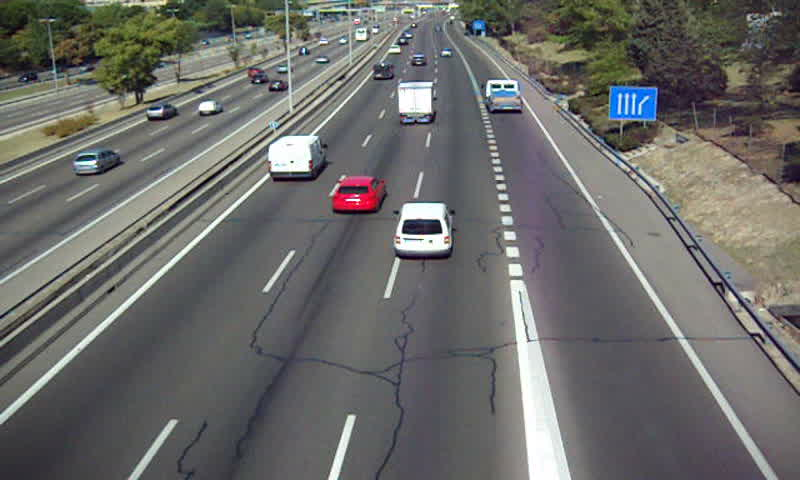car: (393, 201, 454, 256), (329, 177, 386, 214), (410, 53, 427, 68)
small-truck: (396, 81, 435, 122), (484, 78, 522, 113)
van: (267, 136, 325, 182), (371, 62, 394, 83)
